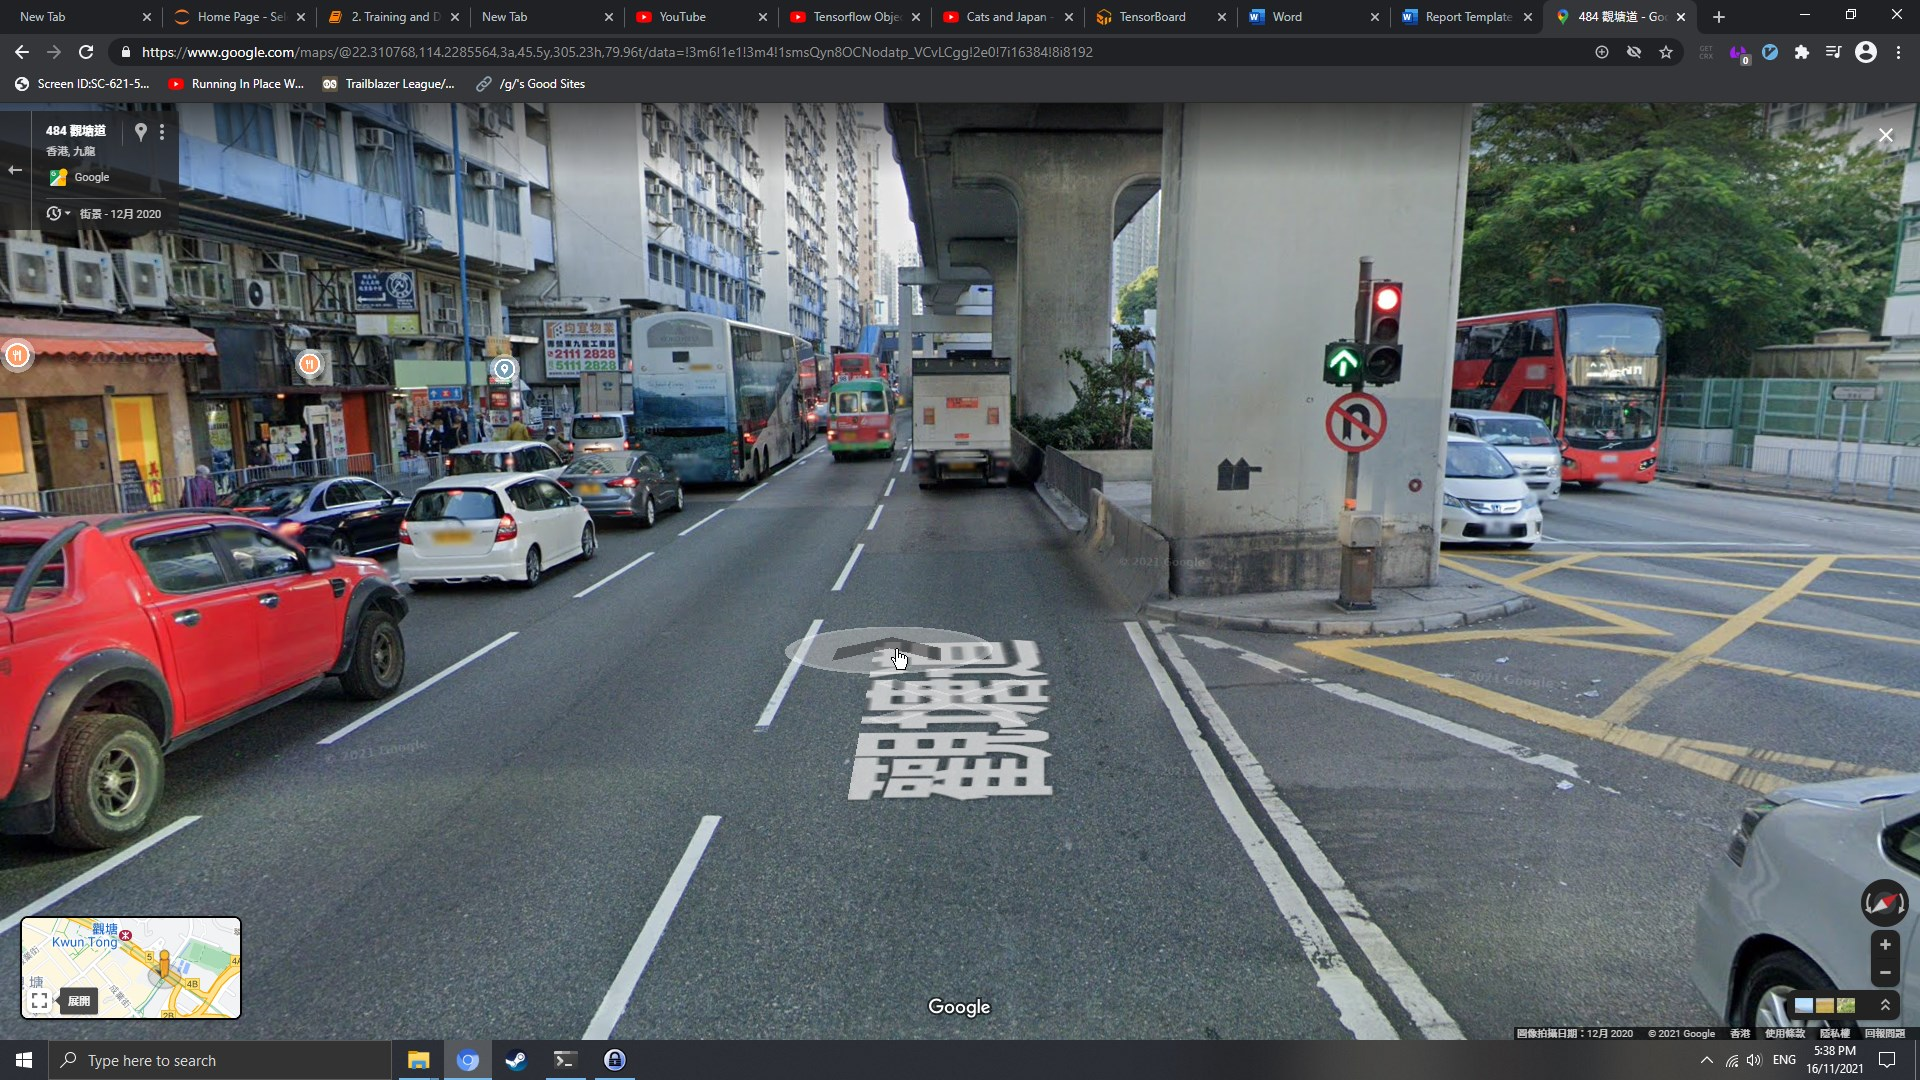NoUTurn: (1327, 392, 1387, 452)
